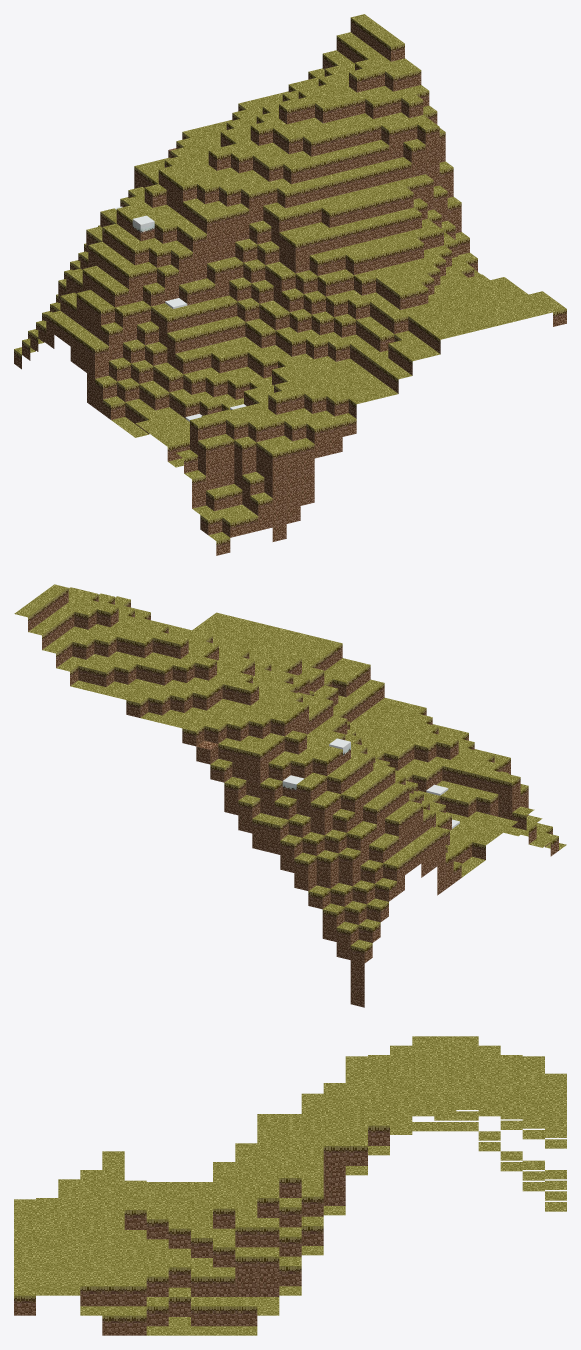
File: chunk-200--50-lvl-1-transformed.glb
3 views of the same model, one above another, from view 1: azimuth 30°, elevation 25°; view 2: azimuth 150°, elevation 25°; view 3: azimuth 270°, elevation 25° (orthographic). The views are drawn at different scales.
Visible parts, largest first — view 1: Grass_Block, Dirt; view 2: Grass_Block, Dirt; view 3: Grass_Block, Dirt.
Part boxes in pixels (left/top/right/bottom): Grass_Block: left=14, top=14, right=566, bottom=555; Dirt: left=46, top=141, right=461, bottom=541; Grass_Block: left=14, top=584, right=566, bottom=963; Dirt: left=196, top=693, right=528, bottom=1007; Grass_Block: left=14, top=1036, right=566, bottom=1335; Dirt: left=235, top=1166, right=345, bottom=1296.
Size of the model in its own units: 25 by 21 by 25.
Materials: 5 (5 with a texture image).
